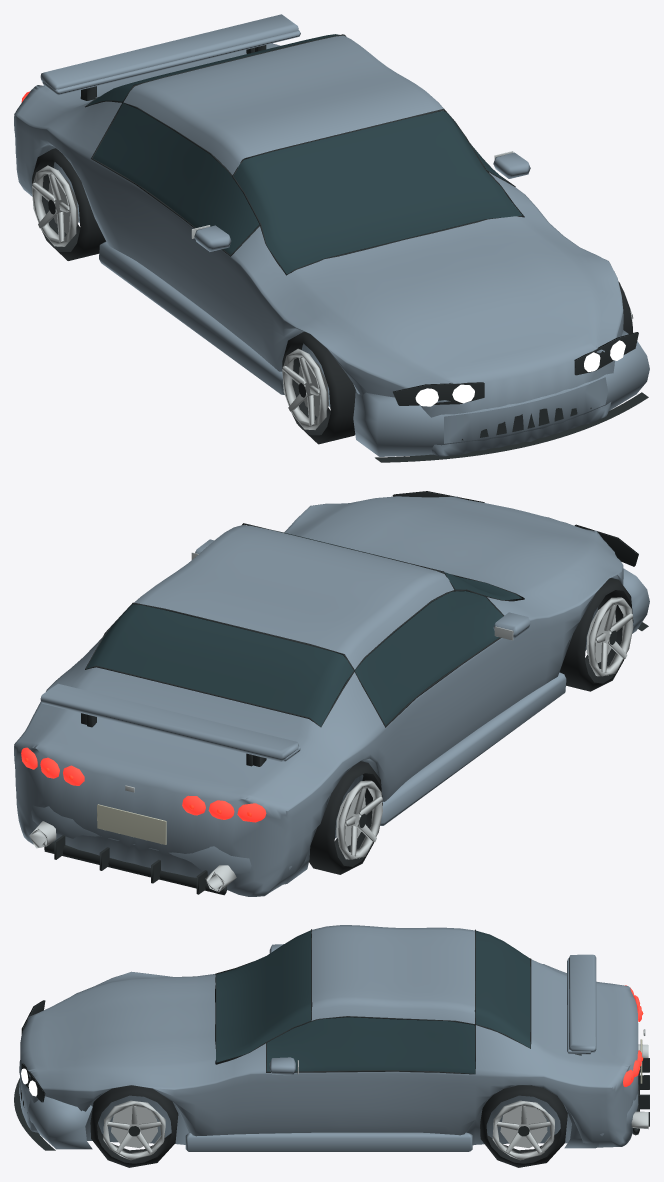
The model's file is ystren-arveth.glb.
3 renders of one model, top to bottom at view 1: azimuth 30°, elevation 25°; view 2: azimuth 150°, elevation 25°; view 3: azimuth 270°, elevation 25°, orthographic. The views are drawn at different scales.
Parts seen in each view (by area): view 1: scocca, cofano, cristallo_ant, tetto, porta_sx, cristallo_sx, paraurti_ant, spoiler, minigonna_sx, ruota_ant_sx_gomma, ruota_post_sx_gomma, portellone (+15 smaller); view 2: scocca, tetto, portellone, cofano, cristallo_post, porta_sx, cristallo_sx, spoiler, minigonna_sx, ruota_post_sx_gomma, ruota_ant_sx_gomma, paraurti_post (+11 smaller); view 3: scocca, cofano, tetto, porta_dx, cristallo_dx, cristallo_ant, portellone, minigonna_dx, cristallo_post, spoiler, paraurti_ant, ruota_ant_dx_gomma (+13 smaller).
Boxes of the visible parts, bbox=[...] form: scocca: bbox=[14, 43, 623, 456]; cofano: bbox=[287, 216, 600, 373]; cristallo_ant: bbox=[233, 111, 522, 274]; tetto: bbox=[123, 35, 443, 174]; porta_sx: bbox=[91, 159, 245, 343]; cristallo_sx: bbox=[92, 103, 259, 254]; paraurti_ant: bbox=[353, 330, 649, 456]; spoiler: bbox=[40, 14, 298, 89]; minigonna_sx: bbox=[99, 241, 284, 394]; ruota_ant_sx_gomma: bbox=[282, 332, 355, 444]; ruota_post_sx_gomma: bbox=[32, 148, 105, 260]; portellone: bbox=[29, 44, 274, 112]; scocca: bbox=[14, 496, 623, 896]; tetto: bbox=[134, 525, 454, 669]; portellone: bbox=[29, 667, 320, 802]; cofano: bbox=[297, 496, 600, 598]; cristallo_post: bbox=[86, 604, 353, 726]; porta_sx: bbox=[381, 631, 525, 801]; cristallo_sx: bbox=[355, 591, 503, 725]; spoiler: bbox=[40, 683, 298, 761]; minigonna_sx: bbox=[380, 672, 566, 825]; ruota_post_sx_gomma: bbox=[309, 761, 382, 874]; ruota_ant_sx_gomma: bbox=[559, 578, 633, 691]; paraurti_post: bbox=[31, 805, 310, 884]; scocca: bbox=[20, 964, 638, 1147]; cofano: bbox=[43, 974, 215, 1074]; tetto: bbox=[311, 925, 474, 1023]; porta_dx: bbox=[251, 1071, 475, 1145]; cristallo_dx: bbox=[267, 1017, 475, 1073]; cristallo_ant: bbox=[216, 930, 311, 1062]; portellone: bbox=[531, 959, 638, 1071]; minigonna_dx: bbox=[185, 1132, 472, 1151]; cristallo_post: bbox=[475, 930, 530, 1047]; spoiler: bbox=[569, 954, 596, 1052]; paraurti_ant: bbox=[19, 1060, 92, 1149]; ruota_ant_dx_gomma: bbox=[90, 1085, 178, 1167].
Size of the model in its own units: 2.23 by 1.28 by 4.88.
